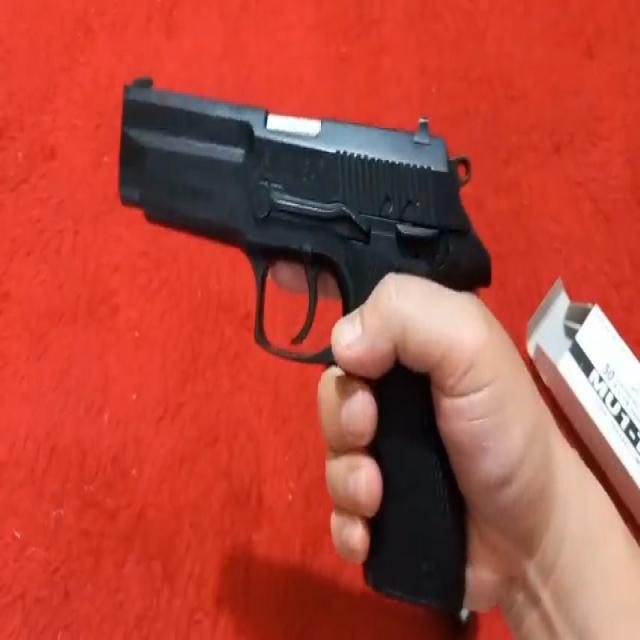handgun: (111, 70, 508, 608)
